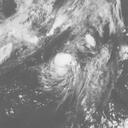cyclone: (51, 53, 77, 80)
